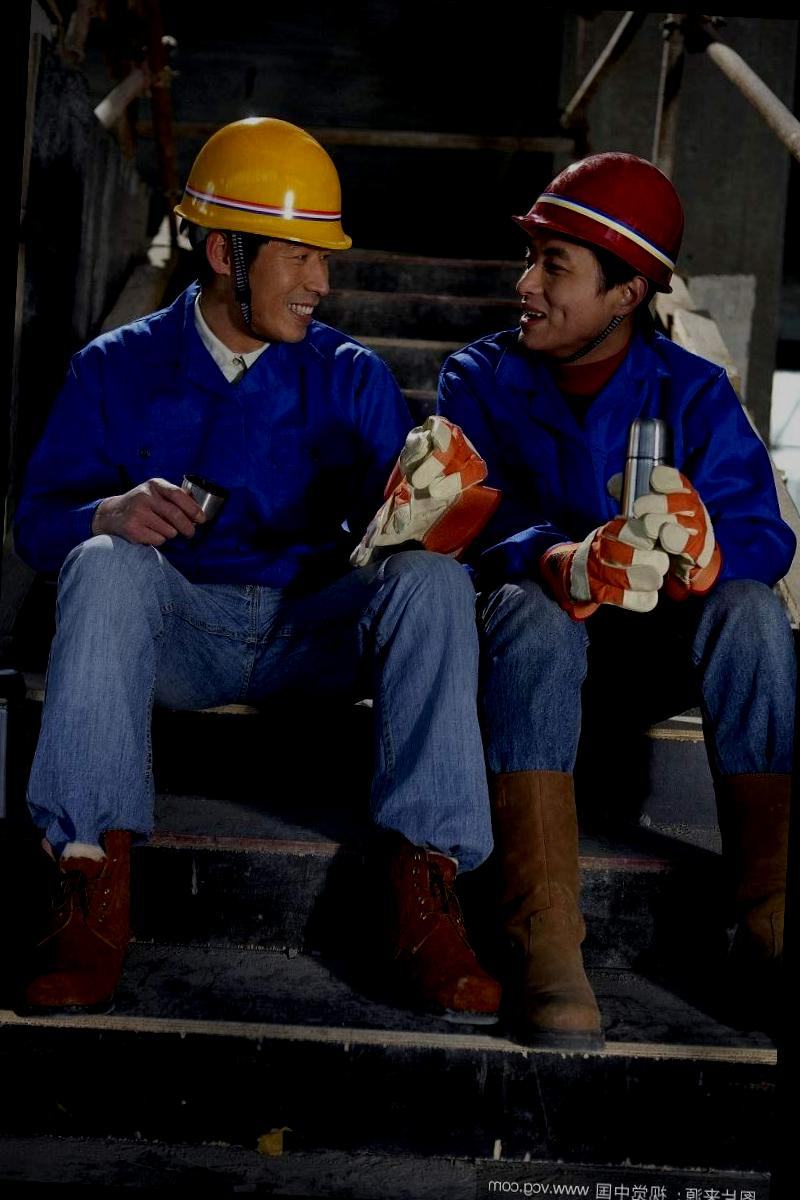helmet: (161, 101, 380, 266), (494, 146, 714, 302)
no_vest: (35, 300, 407, 570), (450, 330, 749, 632)
person: (0, 85, 478, 1069), (376, 126, 800, 1068)
